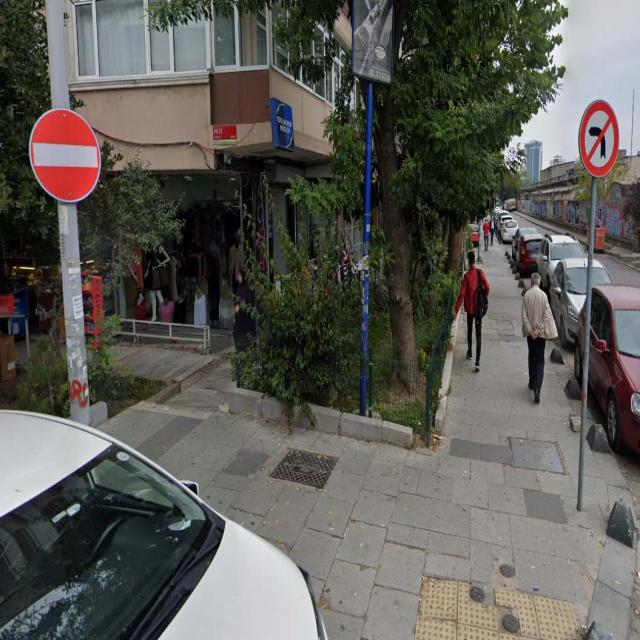girisyok: (28, 108, 102, 203)
soladonulmez: (579, 99, 619, 176)
